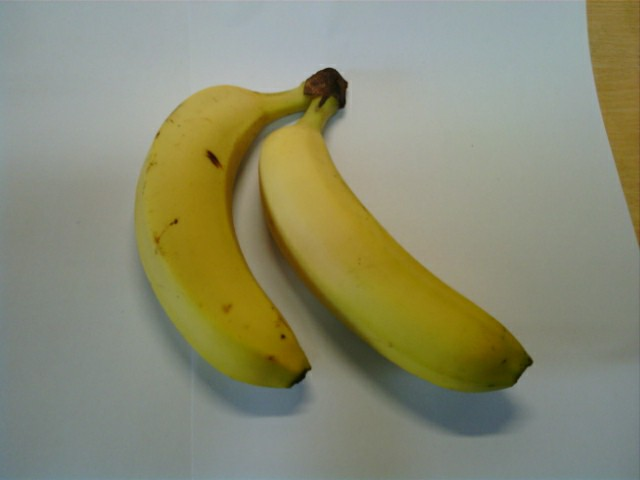fresh_banana: (260, 123, 532, 393)
normal_banana: (134, 83, 308, 388)
